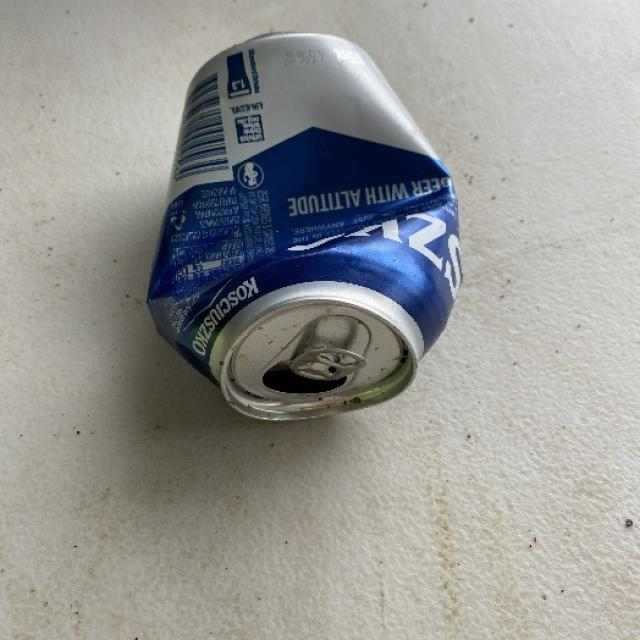metal: (145, 29, 463, 422)
